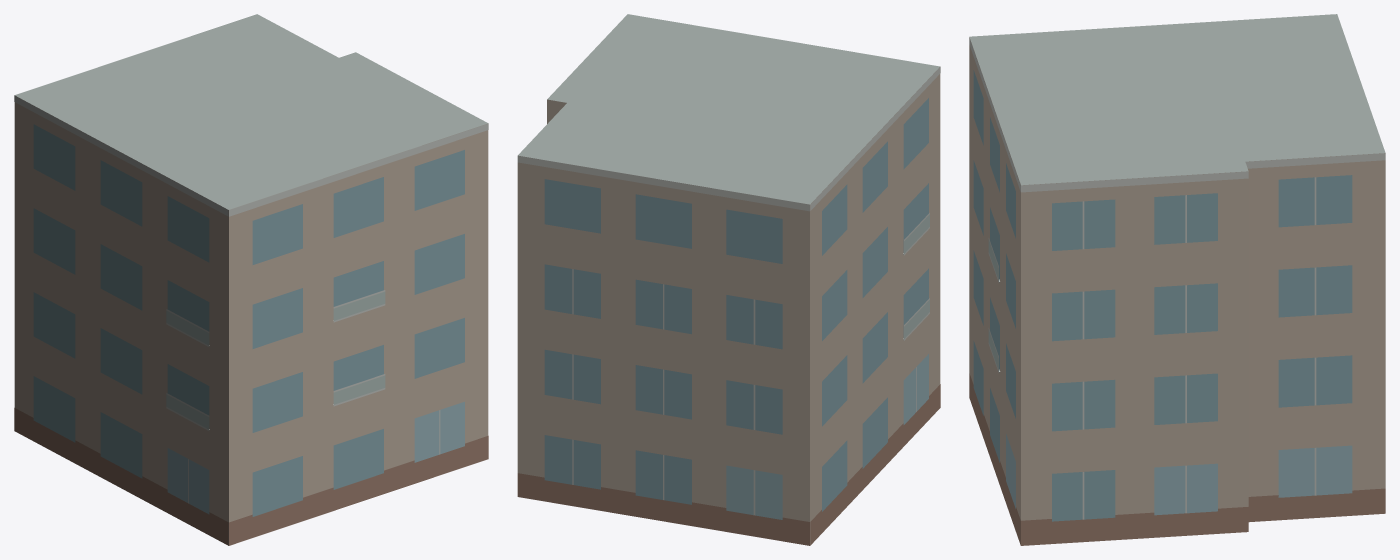
File: survey-upis-32699094.glb
3 renders of one model, left to right at view 1: azimuth 30°, elevation 25°; view 2: azimuth 150°, elevation 25°; view 3: azimuth 270°, elevation 25°, orthographic. The views are drawn at different scales.
Parts seen in each view (by area): view 1: survey-upis-32699094.tmp; view 2: survey-upis-32699094.tmp; view 3: survey-upis-32699094.tmp.
Part boxes in pixels (<box>): survey-upis-32699094.tmp: <box>14,14,488,545</box>; survey-upis-32699094.tmp: <box>517,14,940,545</box>; survey-upis-32699094.tmp: <box>969,14,1385,545</box>.
Size of the model in its own units: 12.43 by 12.2 by 12.78.
